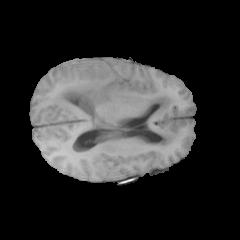glioma: (54, 80, 178, 148)
